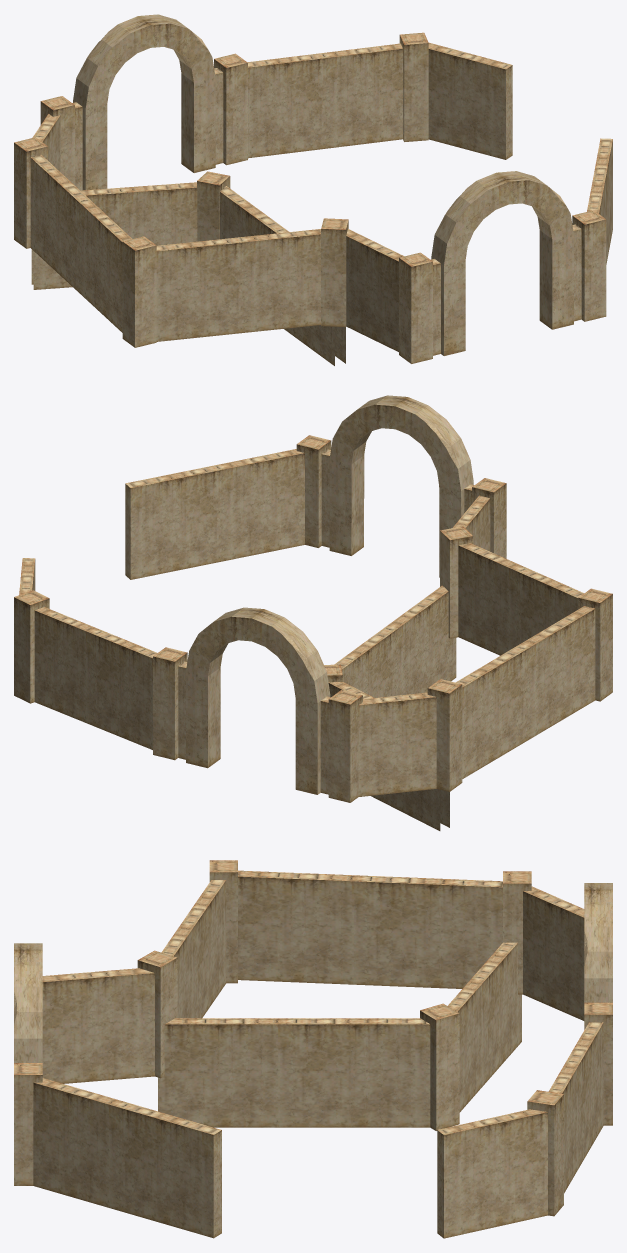
Rendered from poi_tato_farm_32x32_s02_l0.fbx.
3 renders of one model, top to bottom at view 1: azimuth 30°, elevation 25°; view 2: azimuth 150°, elevation 25°; view 3: azimuth 270°, elevation 25°, orthographic. The views are drawn at different scales.
Visible parts, largest first — view 1: mesh_node; view 2: mesh_node; view 3: mesh_node.
Part boxes in pixels (x1,y1,x2,y2): mesh_node: (14,14,612,365); mesh_node: (14,395,612,830); mesh_node: (14,860,612,1238).
Size of the model in its own units: 22.18 by 9 by 21.
